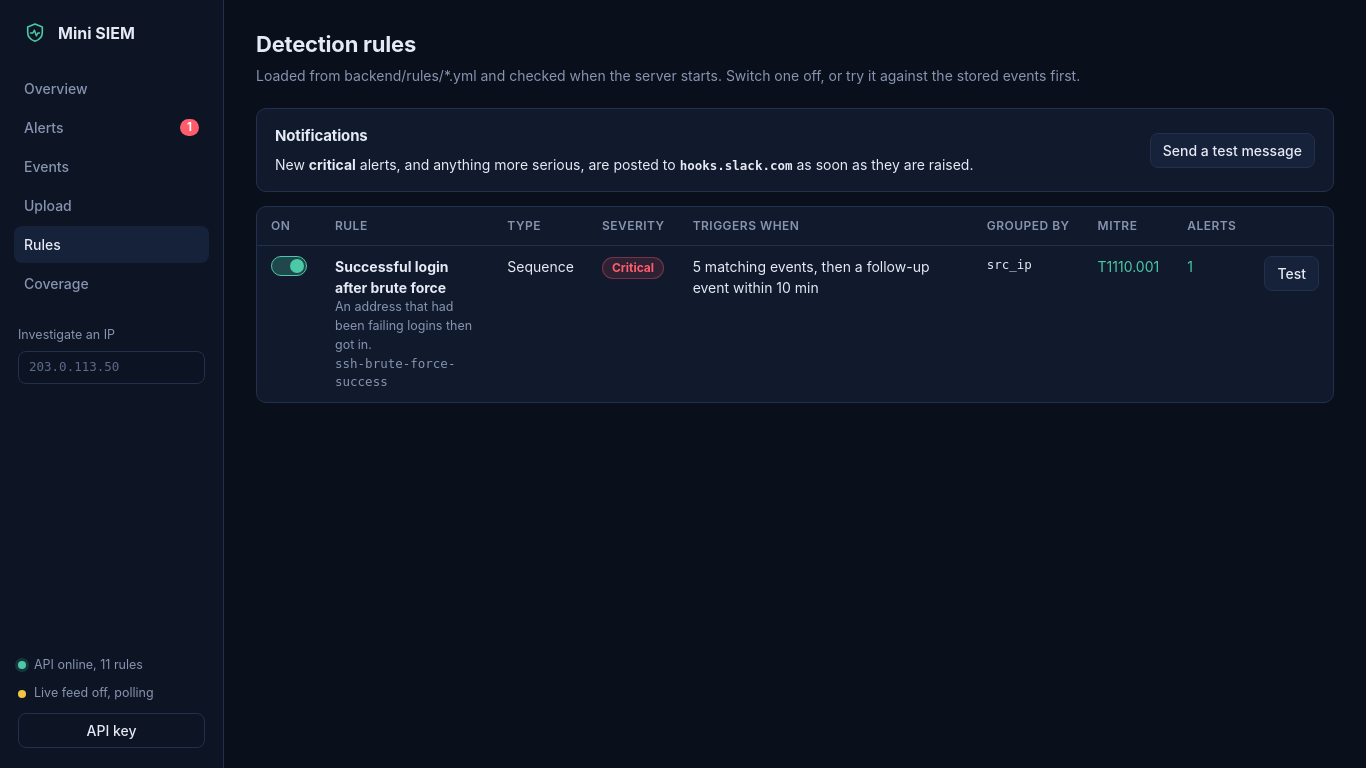
Rules: respond › tries a rule against the stored events without changing anything
Click the button with aria-label "Test Successful login after brute force": (1292,274) [1264, 256, 1319, 291]
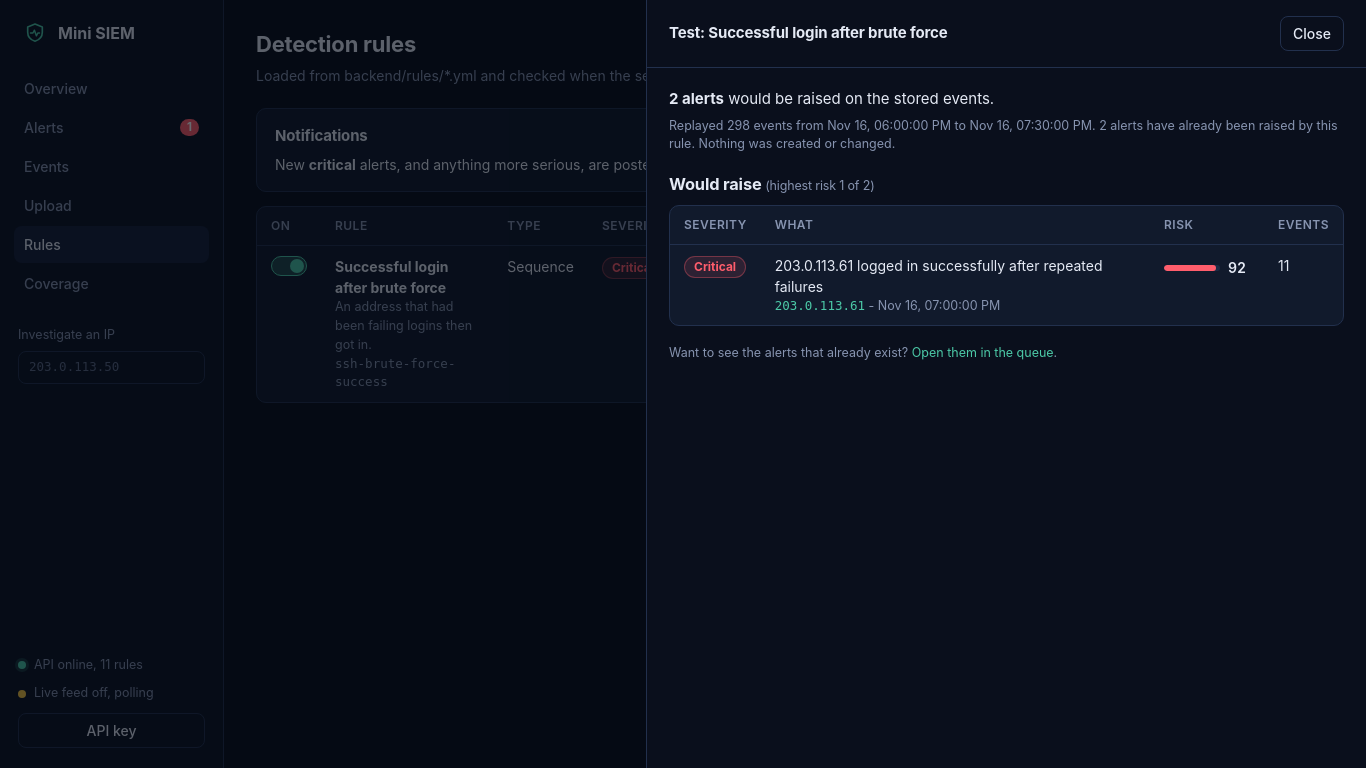
Result: the text "2 alerts would be raised on the stored events." is shown at [669, 89, 994, 108]
Result: the text "Nothing was created or changed" is shown at [691, 136, 895, 151]
Result: the text "203.0.113.61 logged in successfully after repeated failures" is shown at [775, 257, 1102, 295]
